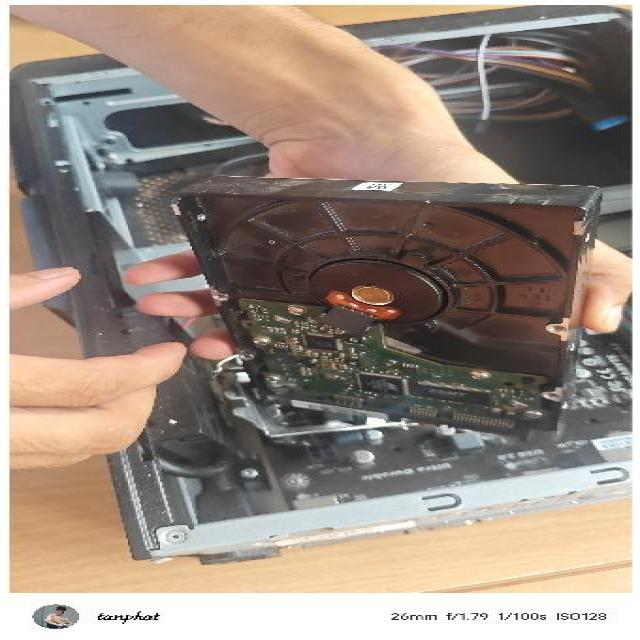DISK: (162, 173, 604, 447)
